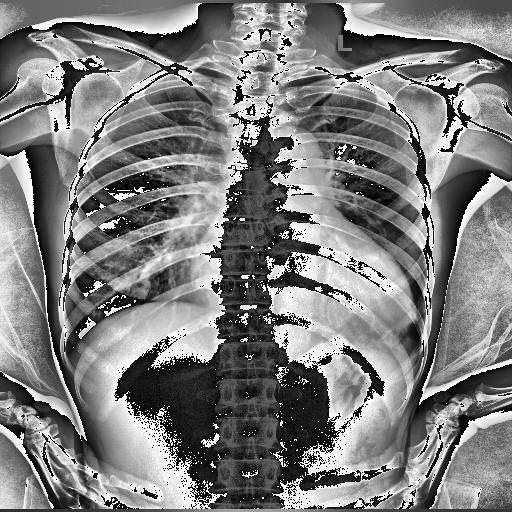0- Aortic enlargement: (270, 126, 328, 186)
3- Cardiomegaly: (193, 242, 413, 334), (190, 254, 418, 330), (188, 260, 416, 329)
